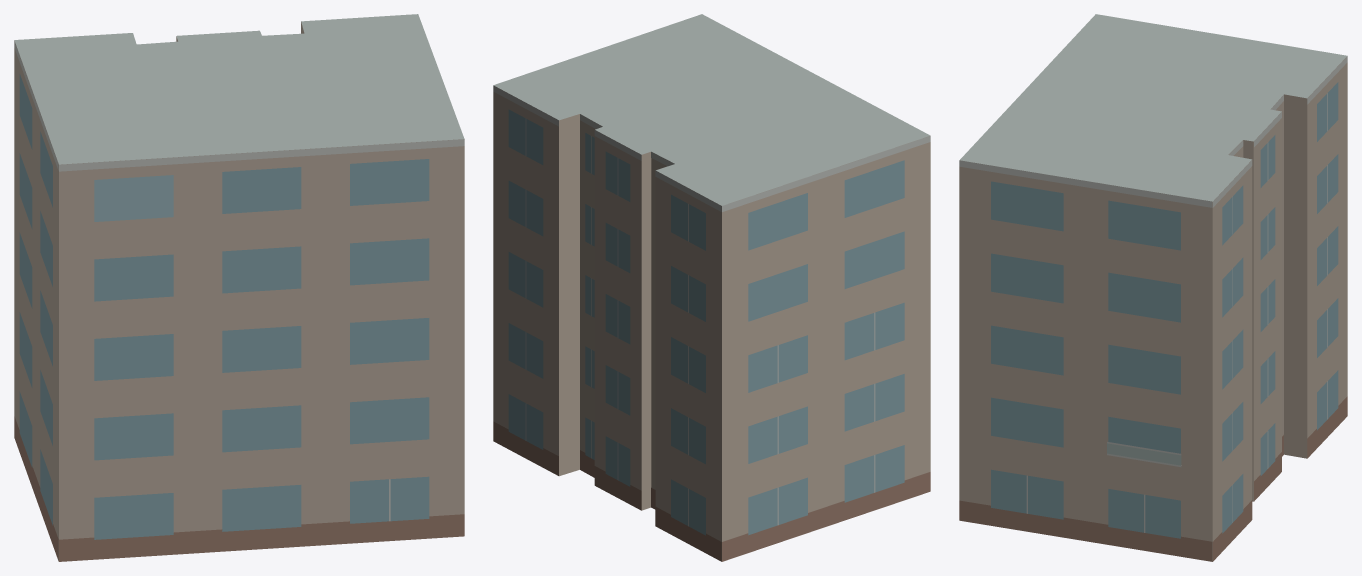
File: survey-upis-32878819.glb
The picture shows the model from 3 angles, left to right: view 1: azimuth 30°, elevation 25°; view 2: azimuth 150°, elevation 25°; view 3: azimuth 270°, elevation 25°; orthographic projection. The views are drawn at different scales.
Visible parts, largest first — view 1: survey-upis-32878819.tmp; view 2: survey-upis-32878819.tmp; view 3: survey-upis-32878819.tmp.
Boxes of the visible parts, x1,y1,x2,y2 form: survey-upis-32878819.tmp: (14, 14, 464, 561); survey-upis-32878819.tmp: (493, 14, 930, 561); survey-upis-32878819.tmp: (959, 14, 1347, 561).
Bounding box in the file's own units: 15.42 × 13.8 × 13.49.
